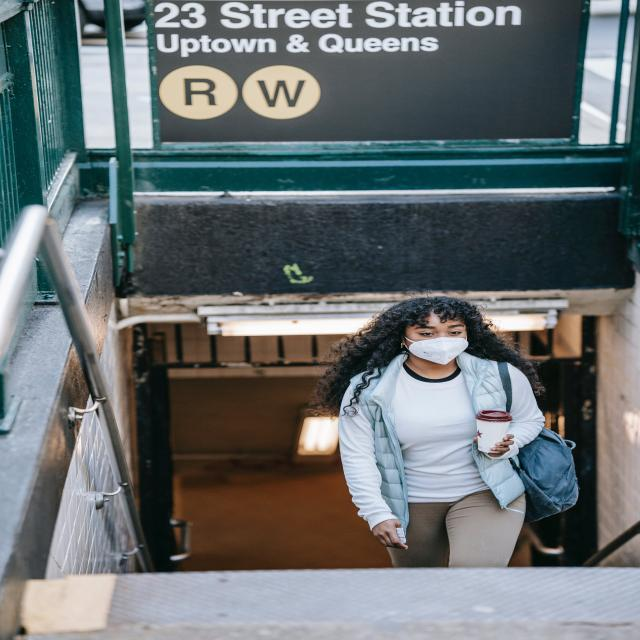cup: (476, 407, 514, 454)
